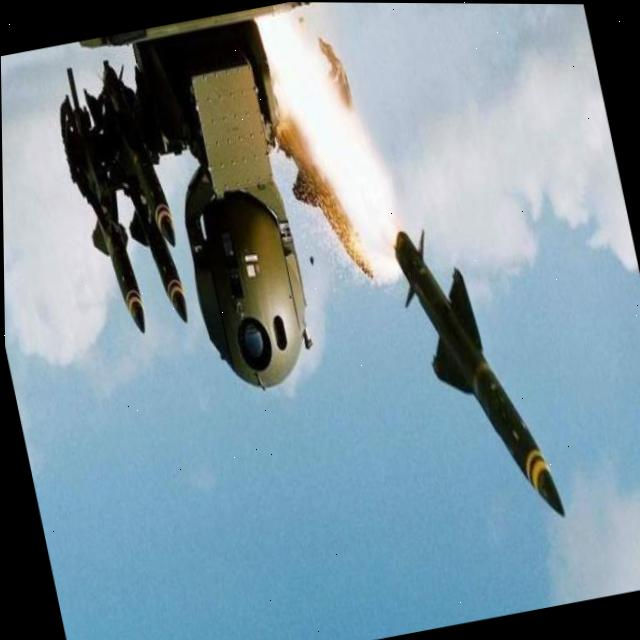missile: (375, 198, 573, 554)
